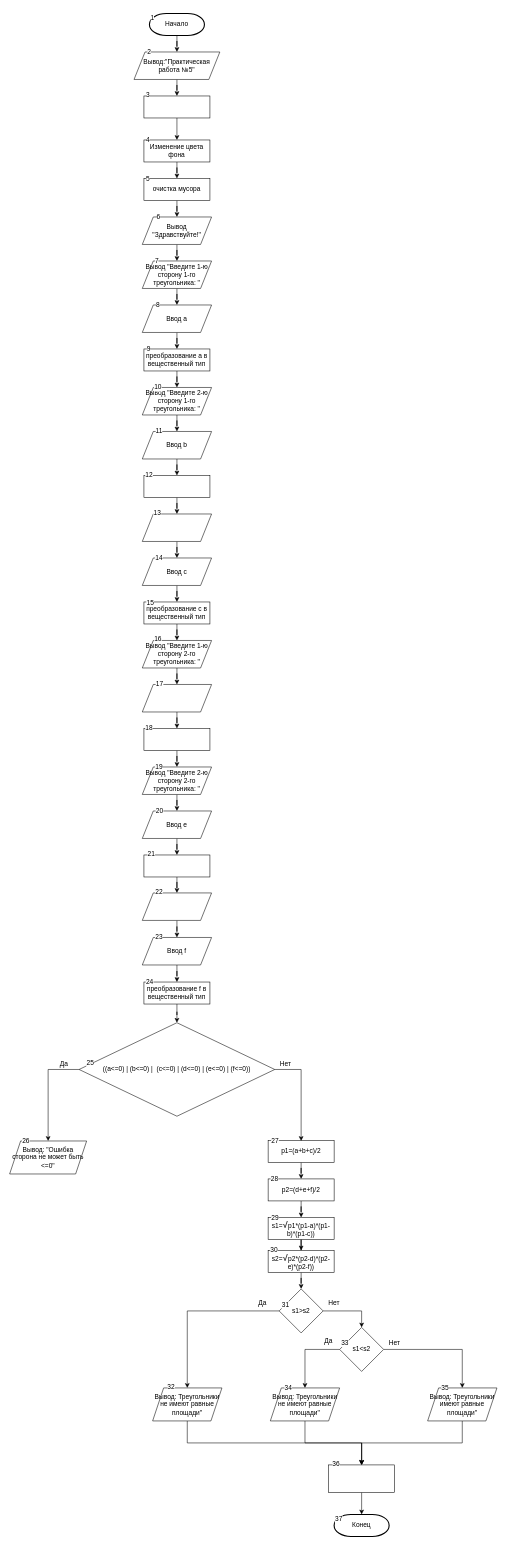
Image size: 507x1546. Some labels were removed from this diagram. Here are the shapes that lost their labels. From the top down, the centre of each, then its label:
(x=176, y=106): Изменение цвета шрифта
(x=176, y=486): преобразование b в вещественный тип
(x=177, y=527): Вывод "Введите 3-ю сторону 1-го треугольника: "
(x=177, y=698): Ввод d
(x=176, y=739): преобразование d в вещественный тип
(x=176, y=865): преобразование e в вещественный тип
(x=177, y=906): Вывод "Введите 3-ю сторону 2-го треугольника: "
(x=361, y=1478): Задержка консоли
